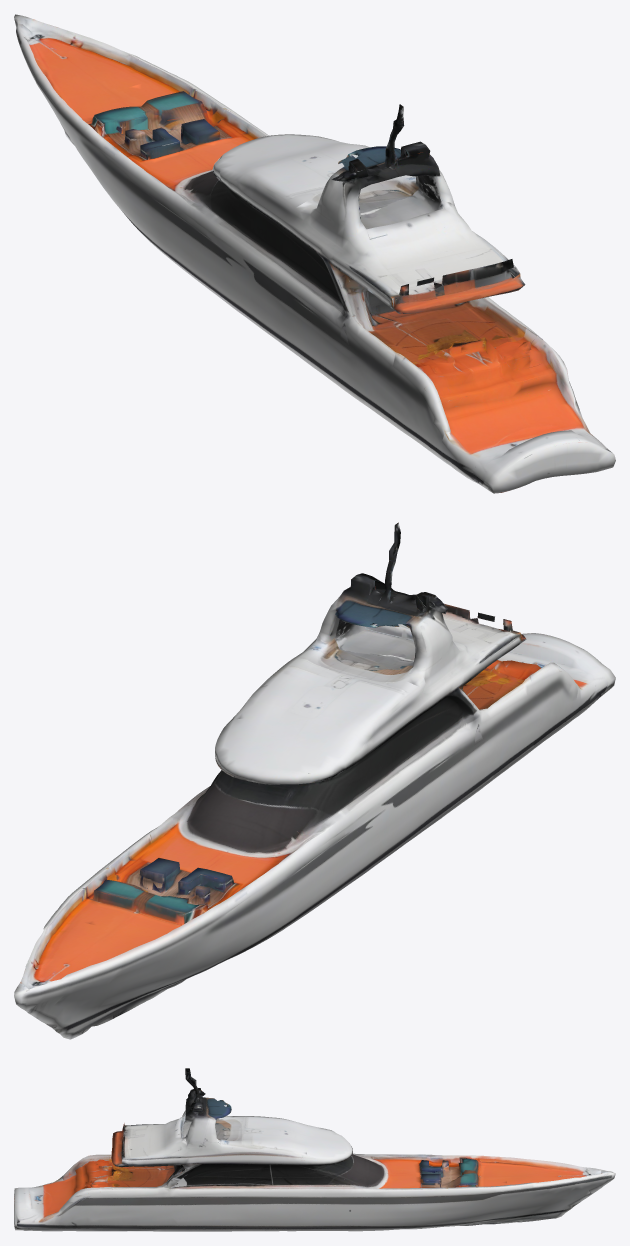
The model's file is bfab9903-12d6-4350-940d-95149039b6f1.glb.
The picture shows the model from 3 angles, top to bottom: view 1: azimuth 30°, elevation 25°; view 2: azimuth 150°, elevation 25°; view 3: azimuth 270°, elevation 25°; orthographic projection. The views are drawn at different scales.
Size of the model in its own units: 0.2973 by 0.5659 by 2.
1 material, 1 textured.
